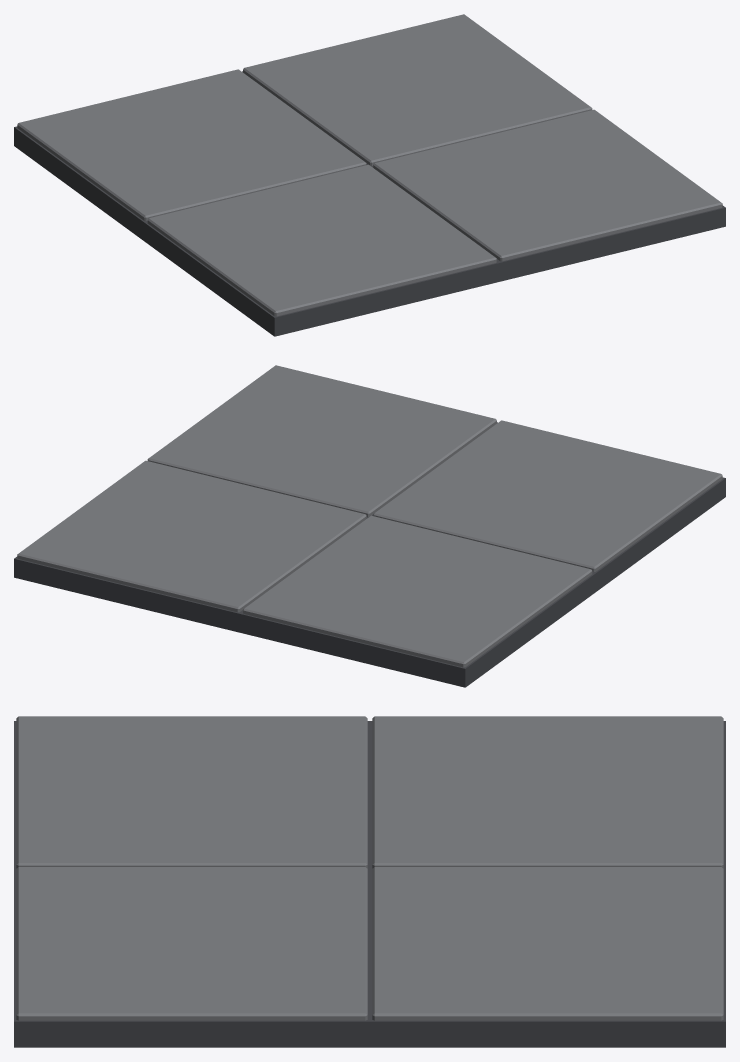
The model's file is Floor_Concrete.fbx.
3 renders of one model, top to bottom at view 1: azimuth 30°, elevation 25°; view 2: azimuth 150°, elevation 25°; view 3: azimuth 270°, elevation 25°, orthographic. The views are drawn at different scales.
Visible parts, largest first — view 1: Floor_Concrete; view 2: Floor_Concrete; view 3: Floor_Concrete.
Boxes of the visible parts, x1,y1,x2,y2 form: Floor_Concrete: (14,14,725,336); Floor_Concrete: (14,365,725,687); Floor_Concrete: (14,716,725,1047).
Size of the model in its own units: 2 by 0.1 by 2.
1 material, 1 textured.
